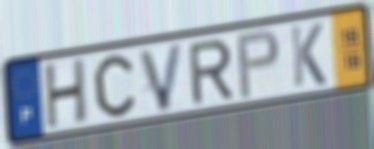C: (91, 52, 137, 120)
H: (44, 55, 89, 133)
K: (288, 20, 328, 90)
P: (234, 27, 282, 102)
R: (186, 36, 236, 108)
V: (136, 40, 186, 115)
